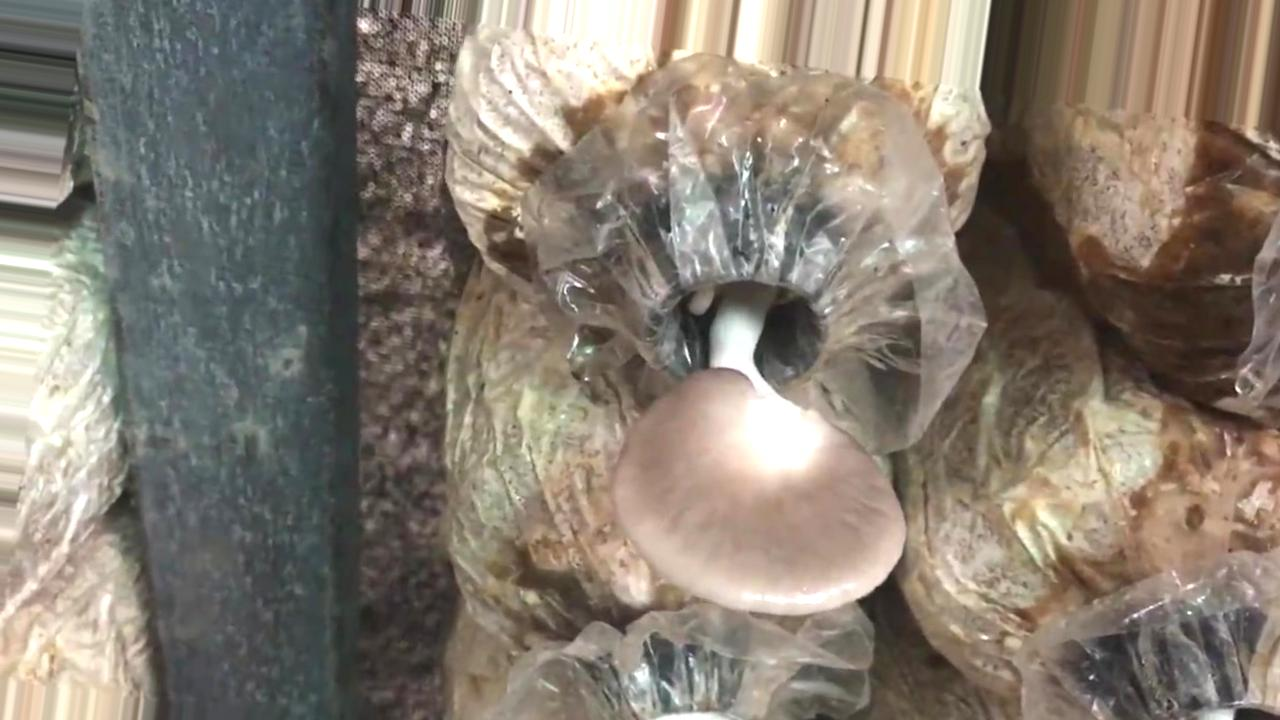nam: (611, 196, 906, 620)
